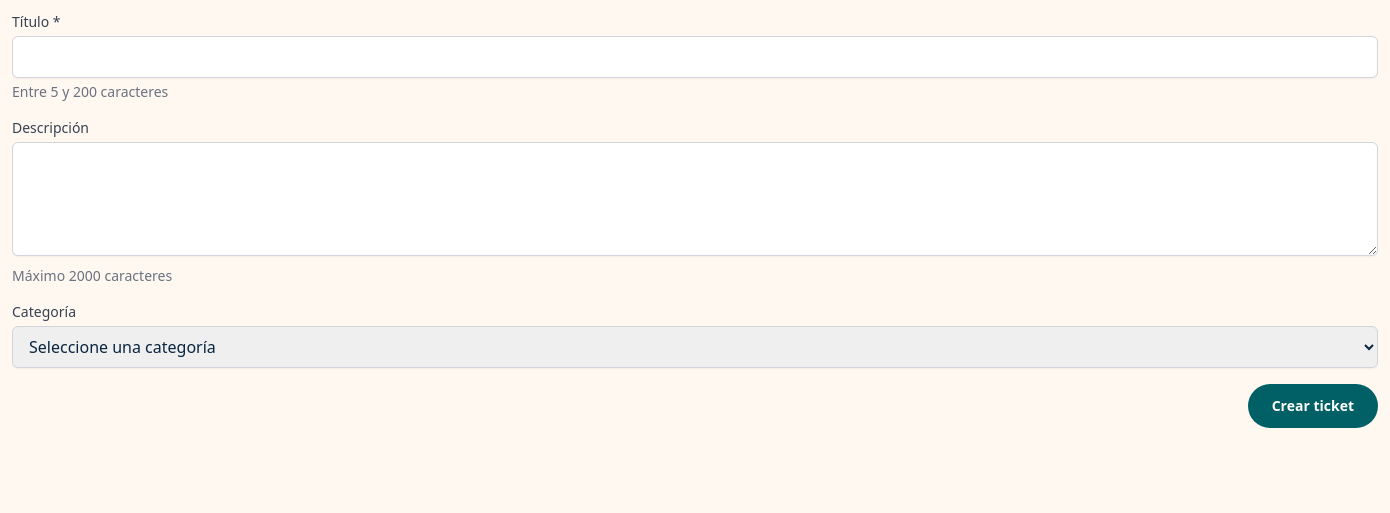
TicketForm › informa el fallo sin invocar la confirmación
Step 1. Type "Problema técnico" into the field labelled "Título *" → {"x": 695, "y": 57}, box [12,36,1378,78]
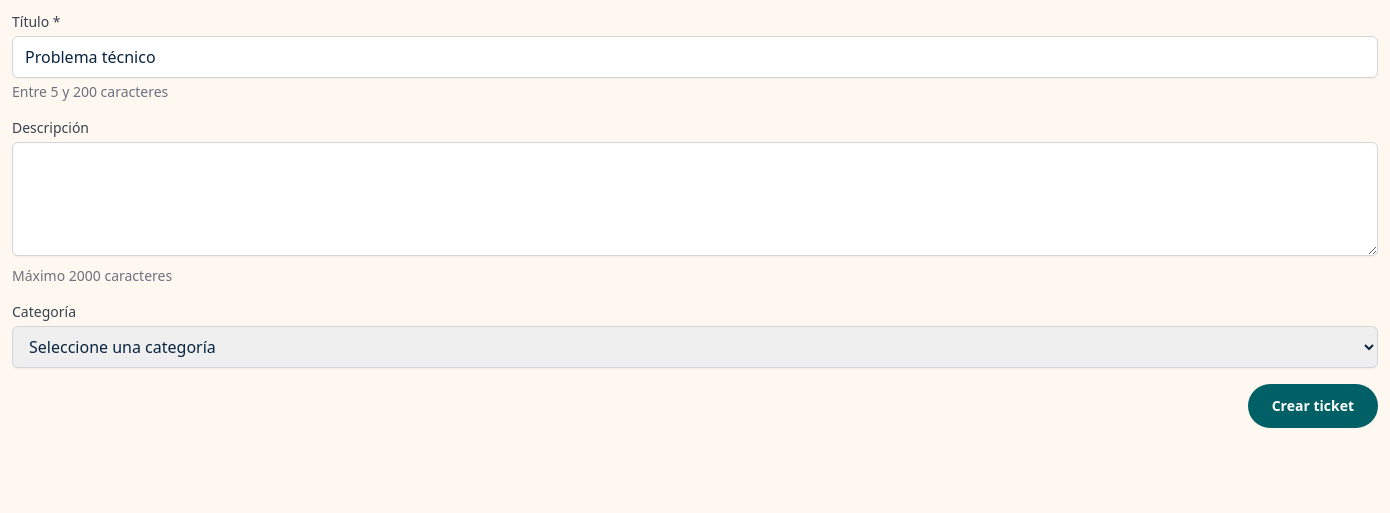
Step 2. Click the button "Crear ticket" → {"x": 1313, "y": 406}, box [1248,384,1378,428]
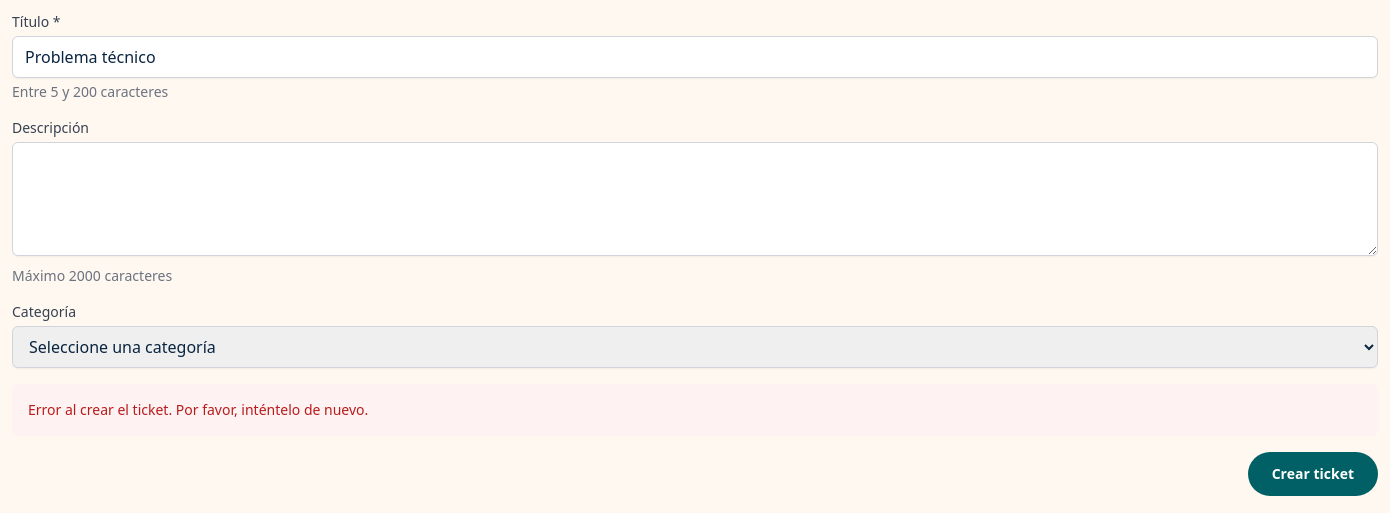
expect the message shows "Error al crear el ticket": met, box [28,400,368,419]
